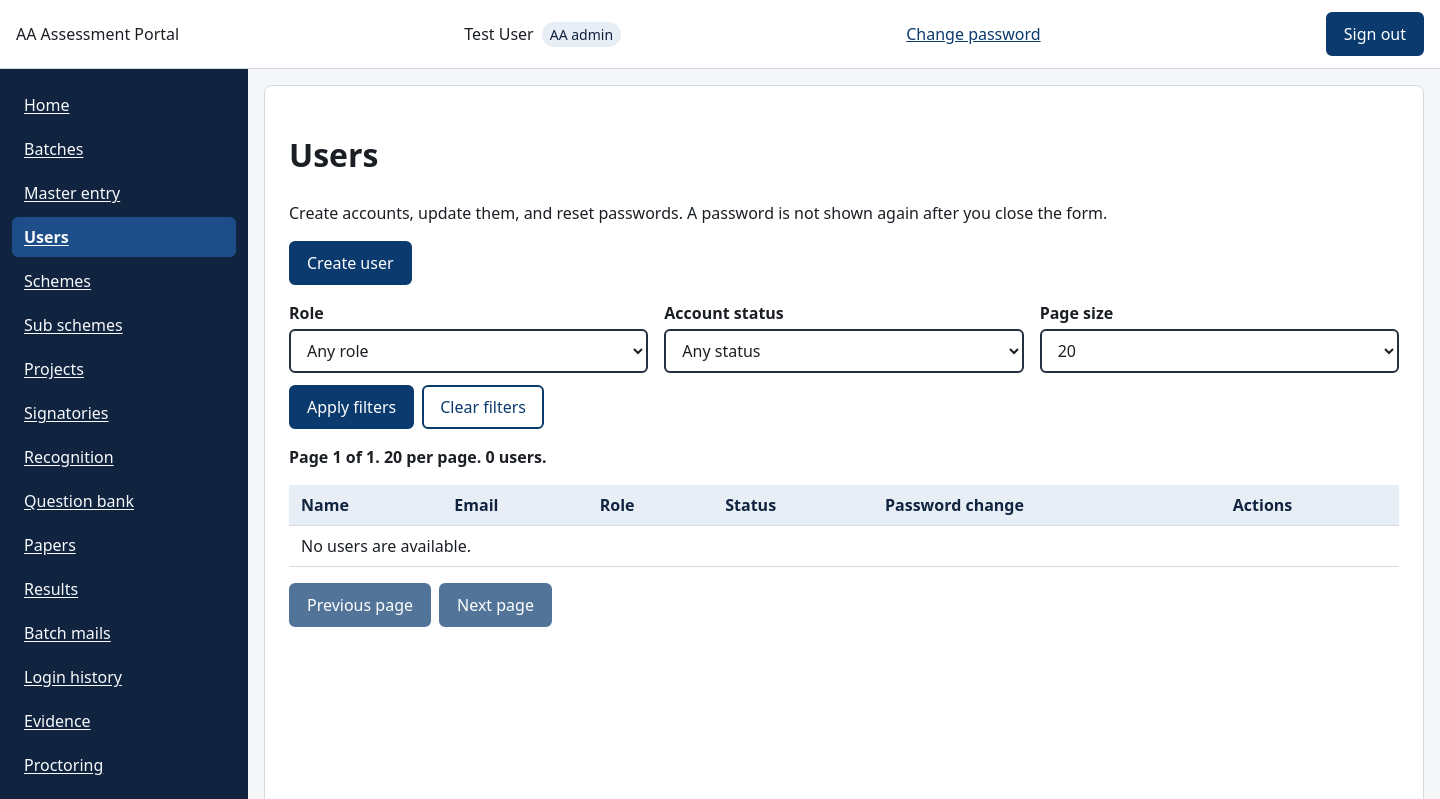
Scenario: shows an empty state, then a filtered empty state
This screenshot has width=1440, height=799.
Expected: the text "No users are available." is shown, left=289, top=526, right=1399, bottom=566
Expected: the message reads "Page 1 of 1. 20 per page. 0 users.", left=289, top=446, right=546, bottom=468
Select "Candidate" in the dropdown labelled "Role": (469, 351) left=289, top=329, right=648, bottom=373
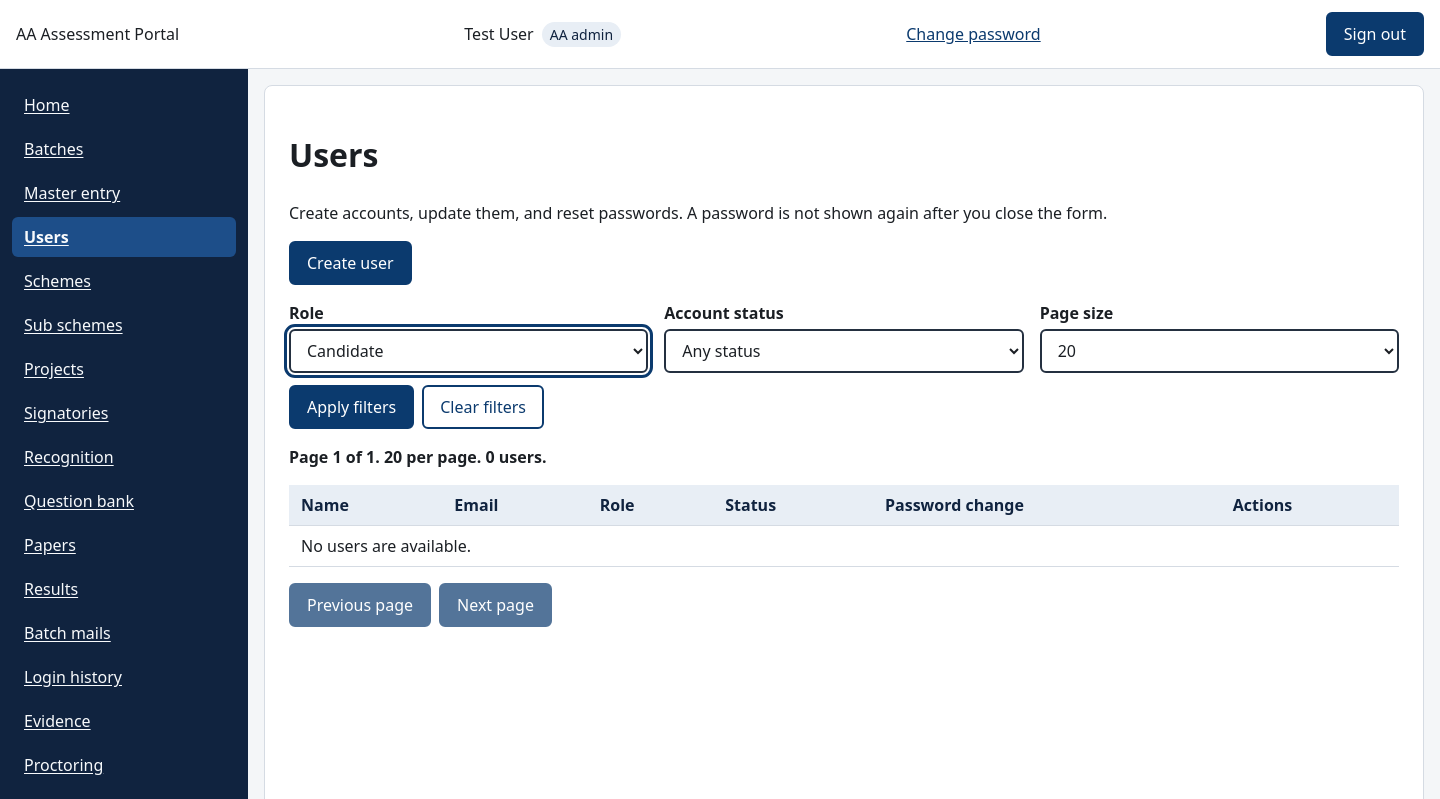
Click the button "Apply filters": click(352, 407) left=289, top=385, right=414, bottom=429
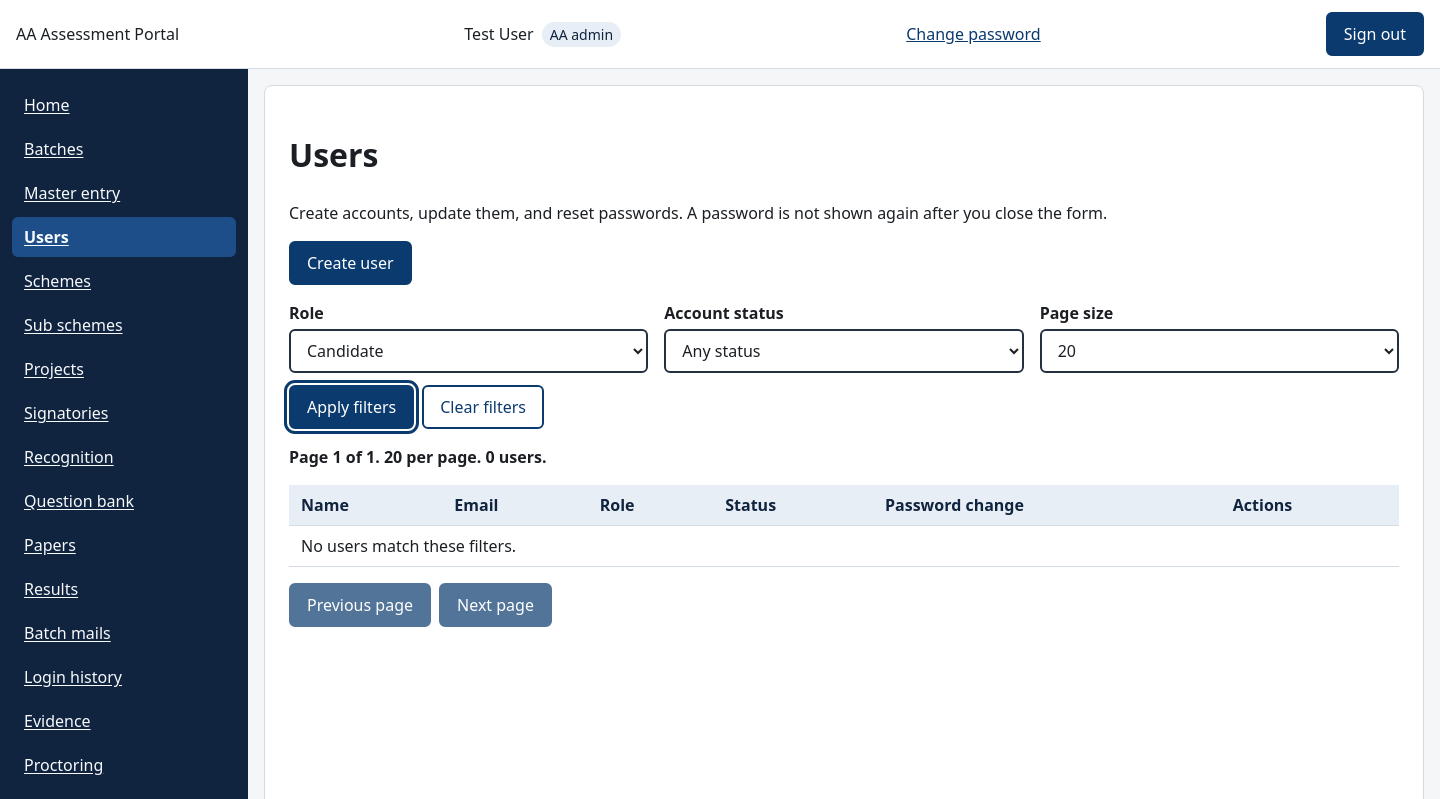
Expected: the text "No users match these filters." is shown, left=289, top=526, right=1399, bottom=566
